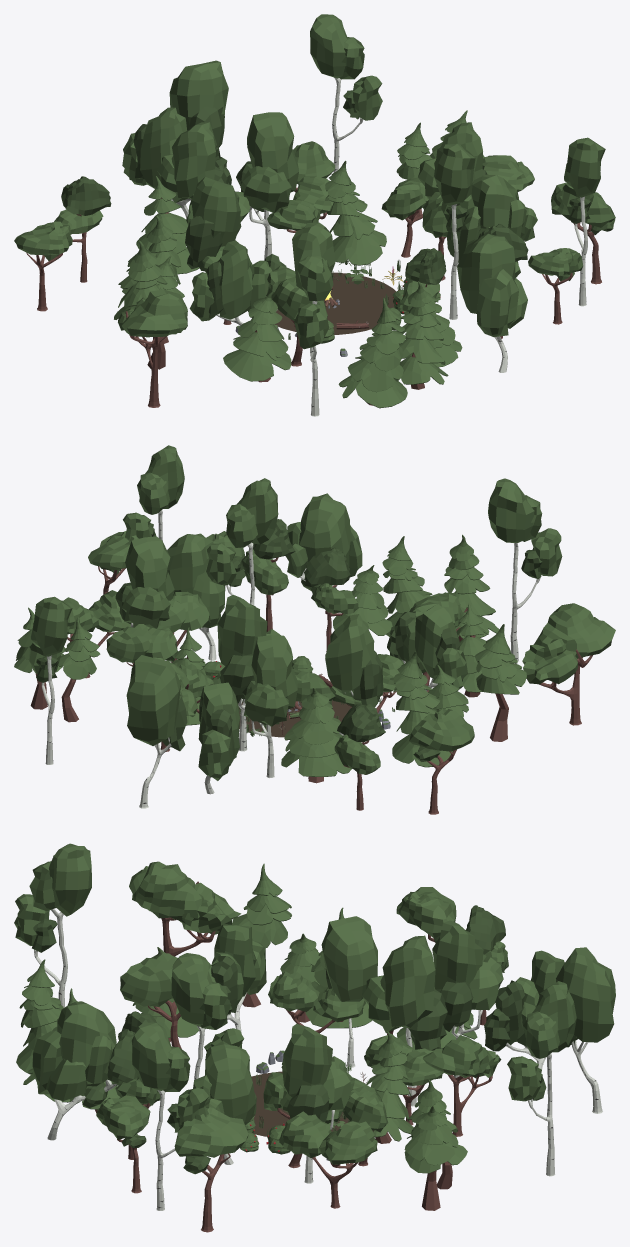
File: camp.glb
3 views of the same model, one above another, from view 1: azimuth 30°, elevation 25°; view 2: azimuth 150°, elevation 25°; view 3: azimuth 270°, elevation 25° (orthographic). The views are drawn at different scales.
Parts seen in each view (by area): view 1: BirchTree_1.002, BirchTree_3.001, BirchTree_5.002, BirchTree_4.001, BirchTree_5.003, PineTree_3.003, BirchTree_2.001, PineTree_1.002, PineTree_3.001, BirchTree_1.001, BirchTree_4.002, BirchTree_5.001 (+24 smaller); view 2: CommonTree_2.002, BirchTree_2.002, BirchTree_5.003, BirchTree_5.001, BirchTree_3.003, BirchTree_4.001, BirchTree_1.002, BirchTree_3.002, PineTree_1.001, BirchTree_2.001, BirchTree_3.001, BirchTree_4.002 (+27 smaller); view 3: BirchTree_1.002, BirchTree_3.001, BirchTree_5.003, CommonTree_2.002, BirchTree_5.002, BirchTree_3.003, BirchTree_3.002, BirchTree_5.004, BirchTree_2.002, BirchTree_2.001, BirchTree_5.001, CommonTree_1.003 (+23 smaller).
Boxes of the visible parts, x1=… form: BirchTree_1.002: x1=457, y1=233, x2=527, y2=372; BirchTree_3.001: x1=236, y1=112, x2=298, y2=259; BirchTree_5.002: x1=310, y1=14, x2=382, y2=172; BirchTree_4.001: x1=189, y1=240, x2=286, y2=325; BirchTree_5.003: x1=292, y1=222, x2=335, y2=416; PineTree_3.003: x1=338, y1=298, x2=407, y2=408; BirchTree_2.001: x1=185, y1=177, x2=241, y2=269; PineTree_1.002: x1=223, y1=291, x2=291, y2=382; PineTree_3.001: x1=325, y1=160, x2=386, y2=265; BirchTree_1.001: x1=447, y1=174, x2=537, y2=262; BirchTree_4.002: x1=122, y1=107, x2=231, y2=218; BirchTree_5.001: x1=434, y1=143, x2=475, y2=319; CommonTree_2.002: x1=522, y1=603, x2=615, y2=725; BirchTree_2.002: x1=126, y1=655, x2=187, y2=808; BirchTree_5.003: x1=488, y1=478, x2=562, y2=661; BirchTree_5.001: x1=206, y1=478, x2=278, y2=605; BirchTree_3.003: x1=242, y1=635, x2=297, y2=778; BirchTree_4.001: x1=387, y1=604, x2=467, y2=691; BirchTree_1.002: x1=285, y1=493, x2=362, y2=612; BirchTree_3.002: x1=115, y1=536, x2=174, y2=628; PineTree_1.001: x1=281, y1=687, x2=351, y2=783; BirchTree_2.001: x1=325, y1=614, x2=383, y2=735; BirchTree_3.001: x1=217, y1=594, x2=280, y2=751; BirchTree_4.002: x1=198, y1=682, x2=239, y2=794; BirchTree_1.002: x1=32, y1=1001, x2=122, y2=1140; BirchTree_3.001: x1=362, y1=935, x2=447, y2=1106; BirchTree_5.003: x1=14, y1=843, x2=91, y2=1007; CommonTree_2.002: x1=129, y1=861, x2=241, y2=956; BirchTree_5.002: x1=507, y1=981, x2=576, y2=1176; BirchTree_3.003: x1=432, y1=920, x2=503, y2=1078; BirchTree_3.002: x1=282, y1=1023, x2=351, y2=1183; BirchTree_5.004: x1=131, y1=1022, x2=208, y2=1210; BirchTree_2.002: x1=556, y1=947, x2=615, y2=1113; BirchTree_2.001: x1=321, y1=916, x2=377, y2=1067; BirchTree_5.001: x1=171, y1=953, x2=244, y2=1079; CommonTree_1.003: x1=279, y1=1111, x2=377, y2=1208.
Size of what is drawn, in the model's own units: 38.49 by 13.56 by 36.61.
